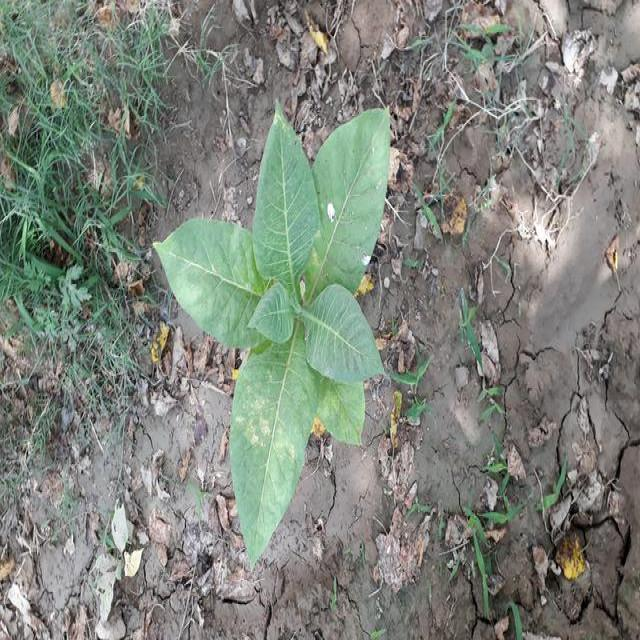crop: (152, 102, 390, 569)
